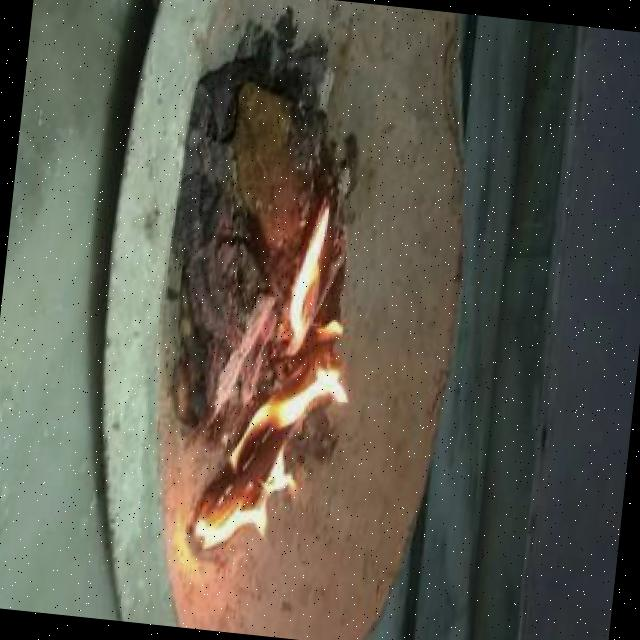fire: (190, 193, 370, 575)
